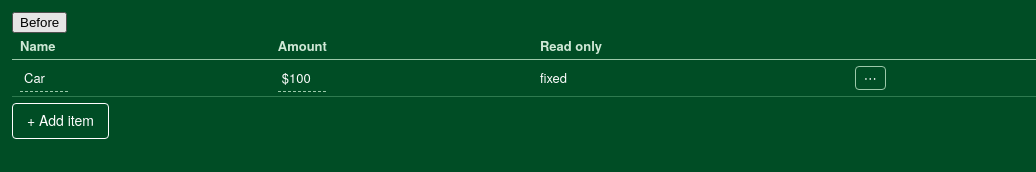
Test: EditableTable › cancels on Escape: the value is unchanged and focus returns to the cell
Click the button named "Amount for Car" at (302, 78), box [278,64,326,92]
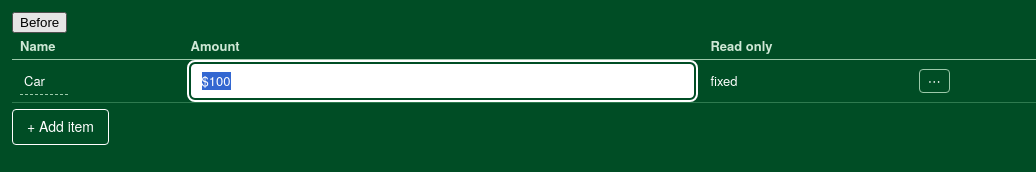
Replace the text in the field named "Edit amount of Car" with "999" at (442, 81), box [202,72,683,90]
Then press Escape
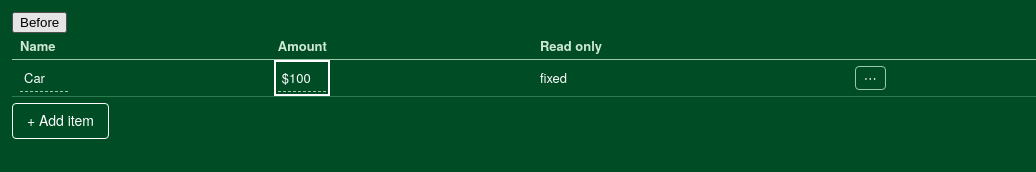
Expected: the button named "Amount for Car" reads "$100", [278,64,326,92]
